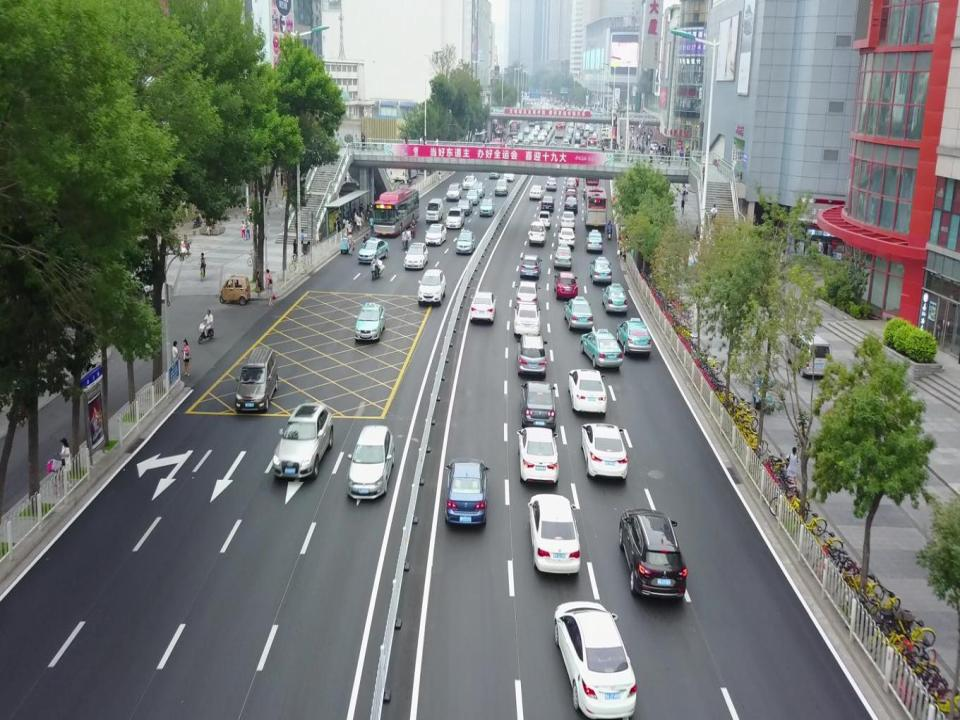bus: (374, 188, 421, 236)
car: (553, 597, 639, 720), (619, 510, 688, 602), (272, 403, 335, 483), (526, 490, 582, 576), (348, 422, 395, 498), (445, 456, 489, 531), (234, 344, 278, 413), (580, 422, 629, 482), (517, 426, 560, 487), (567, 367, 608, 414), (520, 380, 555, 426), (582, 329, 624, 367), (616, 319, 651, 359), (354, 302, 386, 343), (518, 332, 545, 375), (418, 267, 447, 303), (564, 296, 594, 330), (514, 300, 541, 337), (469, 290, 496, 324), (356, 237, 388, 264), (602, 283, 628, 314), (402, 243, 428, 269), (554, 271, 577, 300), (518, 281, 540, 307), (520, 254, 540, 282), (591, 256, 611, 284), (426, 222, 446, 250), (527, 220, 546, 247), (455, 229, 475, 254), (554, 244, 572, 270), (425, 197, 443, 222), (586, 229, 604, 252), (447, 207, 464, 229), (558, 227, 576, 247), (456, 196, 472, 216), (479, 197, 495, 216), (465, 187, 479, 208), (446, 182, 462, 200), (561, 209, 575, 228), (529, 184, 545, 198), (538, 211, 550, 229), (540, 195, 554, 210), (472, 180, 486, 195), (463, 173, 476, 189), (495, 178, 507, 195), (564, 196, 577, 211), (547, 177, 556, 188)
